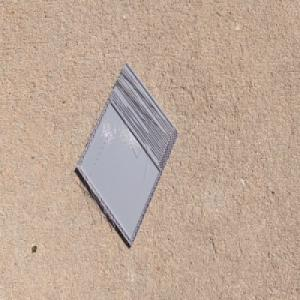PlasticPart: (75, 61, 180, 250)
